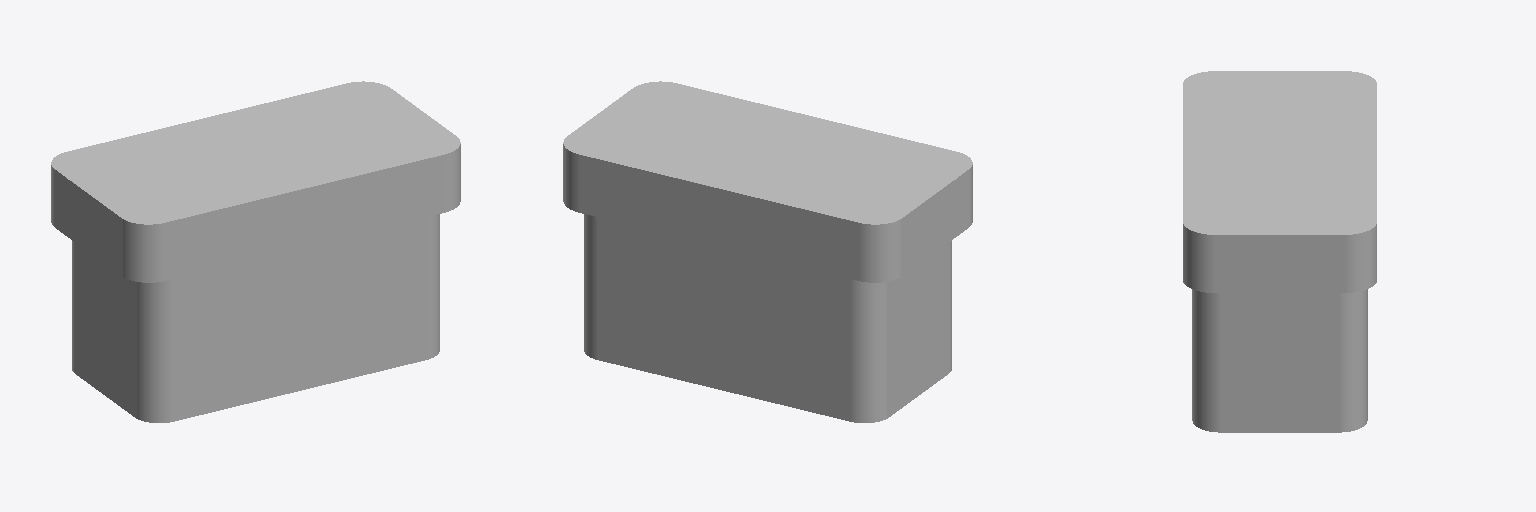
File: 19x38mmRect.obj
3 renders of one model, left to right at view 1: azimuth 30°, elevation 25°; view 2: azimuth 150°, elevation 25°; view 3: azimuth 270°, elevation 25°, orthographic.
Visible parts, largest first — view 1: 19x38mmRect.001, 19x38mmRect.002; view 2: 19x38mmRect.001, 19x38mmRect.002; view 3: 19x38mmRect.001, 19x38mmRect.002.
Boxes of the visible parts, box(x1,y1,x2,y2) form: 19x38mmRect.001: box(51, 81, 460, 282); 19x38mmRect.002: box(72, 214, 439, 422); 19x38mmRect.001: box(563, 81, 972, 282); 19x38mmRect.002: box(584, 214, 951, 422); 19x38mmRect.001: box(1183, 71, 1376, 292); 19x38mmRect.002: box(1192, 289, 1367, 432).
Bounding box in the file's own units: 38 × 22.28 × 19.1.